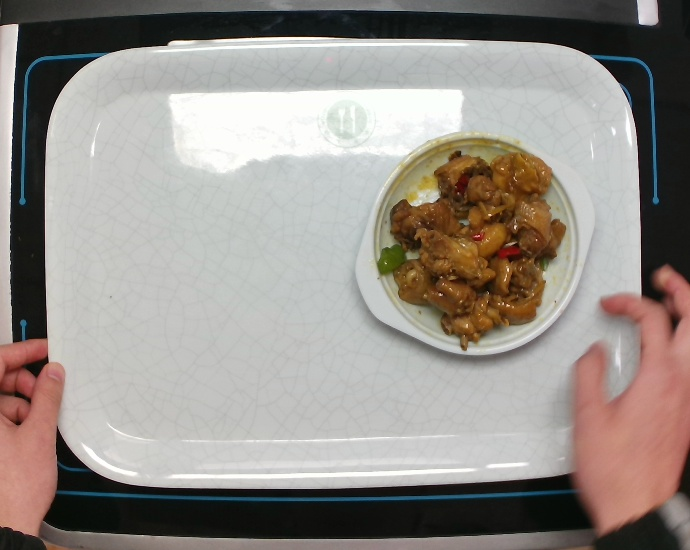JYsf-Shuang_Er_Pan: (349, 123, 597, 366)
